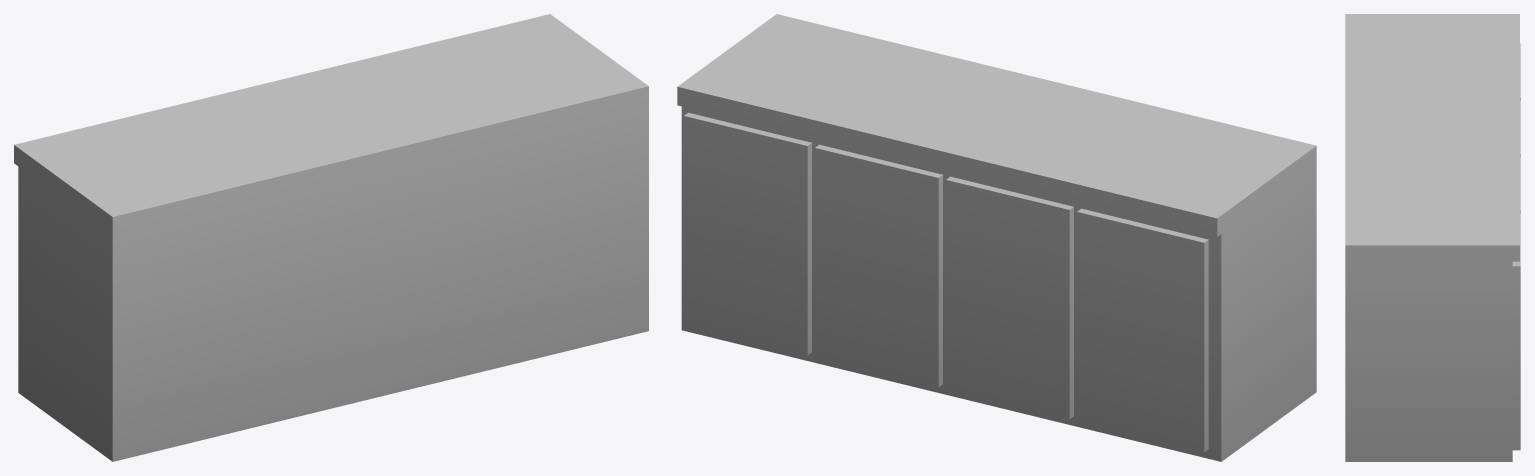
File: KitchenBench.fbx
The picture shows the model from 3 angles, left to right: view 1: azimuth 30°, elevation 25°; view 2: azimuth 150°, elevation 25°; view 3: azimuth 270°, elevation 25°; orthographic projection. The views are drawn at different scales.
Parts seen in each view (by area): view 1: KitchBench; view 2: KitchBench; view 3: KitchBench.
Part boxes in pixels (box(x1,y1,x2,y2)): KitchBench: box(14, 14, 648, 461); KitchBench: box(677, 14, 1316, 461); KitchBench: box(1345, 14, 1520, 461).
Bounding box in the file's own units: 229 × 100 × 73.26.
